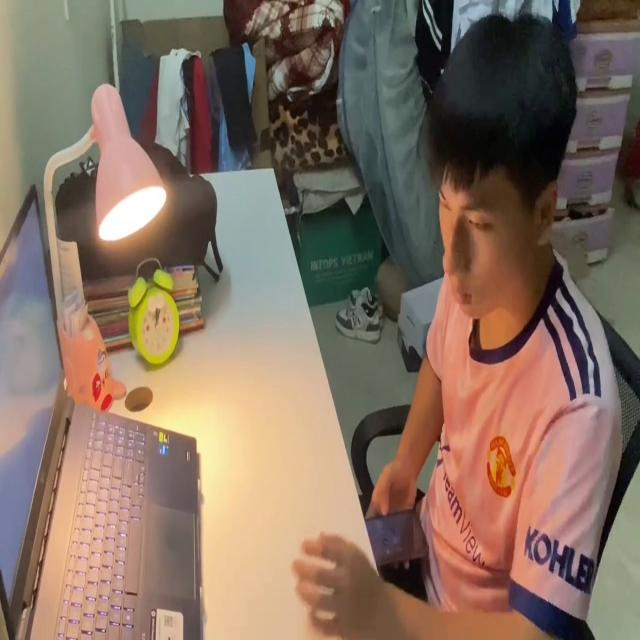laptop: (0, 174, 205, 640)
phone: (365, 506, 431, 564)
student: (290, 14, 623, 640)
